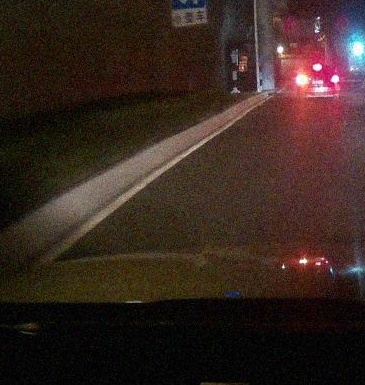L_light: (299, 77, 308, 82)
R_light: (332, 77, 339, 81)
T_light: (314, 66, 322, 69)
night-left: (298, 65, 340, 100)
